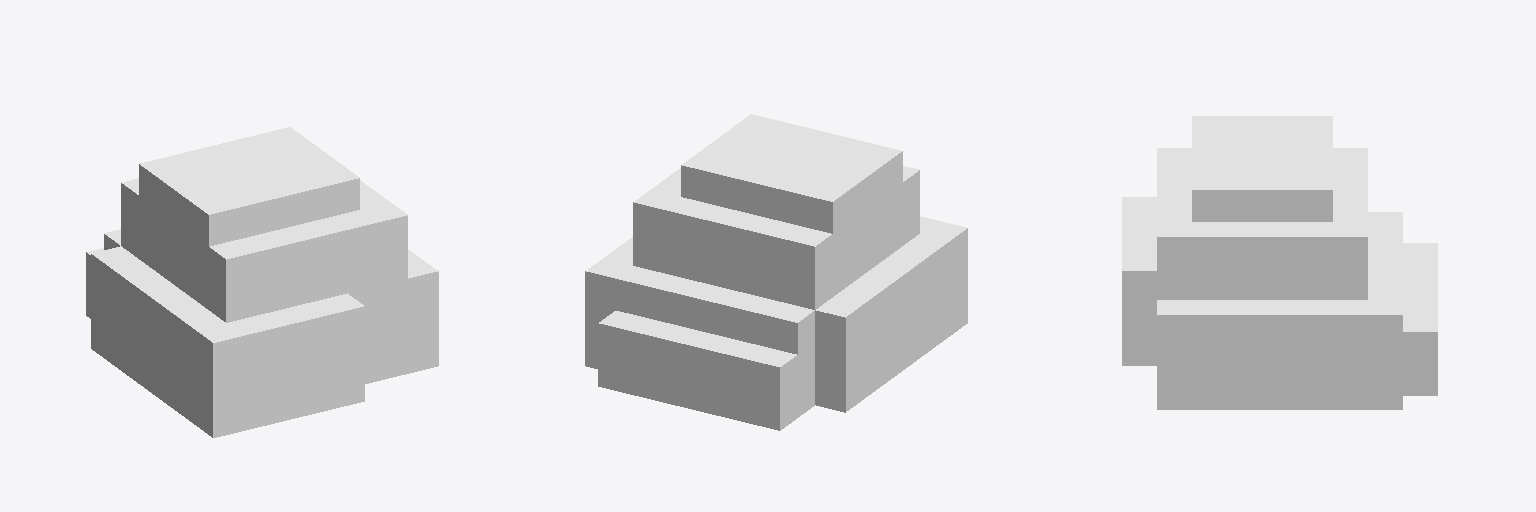
File: env_rocks2.obj
3 renders of one model, left to right at view 1: azimuth 30°, elevation 25°; view 2: azimuth 150°, elevation 25°; view 3: azimuth 270°, elevation 25°, orthographic.
Parts seen in each view (by area): view 1: object 1; view 2: object 1; view 3: object 1.
Part boxes in pixels (x1,y1,x2,y2): object 1: (86, 127, 438, 437); object 1: (585, 114, 967, 430); object 1: (1122, 116, 1437, 409).
Size of the model in its own units: 0.8 by 0.6 by 0.9.